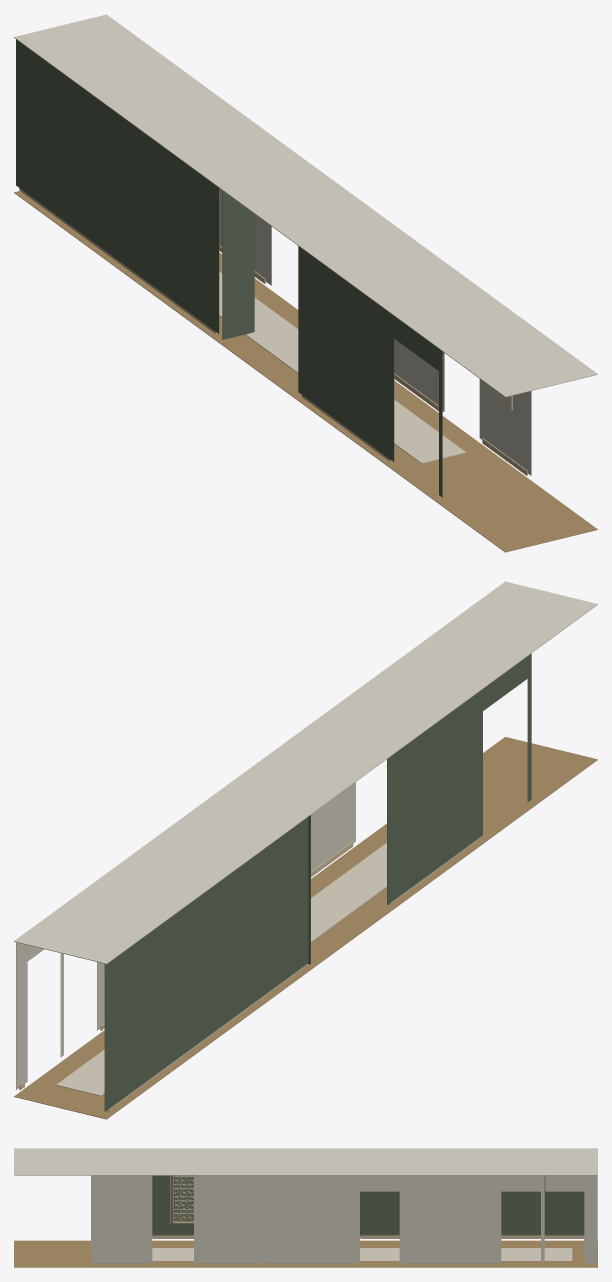
File: corridor-1.glb
3 renders of one model, top to bottom at view 1: azimuth 30°, elevation 25°; view 2: azimuth 150°, elevation 25°; view 3: azimuth 270°, elevation 25°, orthographic. The views are drawn at different scales.
Parts seen in each view (by area): view 1: DESIGN | Entrance coordinated ceiling, DESIGN | Entrance paired wall finish, DESIGN | Entrance floor finish, DESIGN | Entrance paired wall finish.003, DESIGN | Entrance quiet runner, DESIGN | Arch approach finish, DESIGN | Entrance paired wall finish.013, DESIGN | Entrance paired wall finish.012, DESIGN | Entrance paired wall finish.006, DESIGN | Entrance paired wall finish.002; view 2: DESIGN | Entrance coordinated ceiling, DESIGN | Entrance paired wall finish, DESIGN | Entrance floor finish, DESIGN | Entrance paired wall finish.003, DESIGN | Entrance quiet runner, DESIGN | Entrance paired wall finish.012, DESIGN | Entrance paired wall finish.005, DESIGN | Entrance paired wall finish.002, DESIGN | Entrance paired wall finish.001; view 3: DESIGN | Entrance coordinated ceiling, DESIGN | Entrance paired wall finish.006, DESIGN | Entrance paired wall finish.009, DESIGN | Entrance floor finish, DESIGN | Entrance paired wall finish.012, DESIGN | Entrance paired wall finish, DESIGN | Entrance paired wall finish.013, DESIGN | Entrance paired wall finish.003, DESIGN | Entrance quiet runner, DESIGN | Entrance paired wall finish.005, DESIGN | Kumiko | Garden wall and an ivory pause, DESIGN | Entrance paired wall finish.007 (+6 smaller).
Boxes of the visible parts, x1,y1,x2,y2 form: DESIGN | Entrance coordinated ceiling: (14, 14, 597, 397); DESIGN | Entrance paired wall finish: (16, 39, 219, 333); DESIGN | Entrance floor finish: (14, 191, 597, 552); DESIGN | Entrance paired wall finish.003: (298, 246, 394, 461); DESIGN | Entrance quiet runner: (219, 272, 466, 463); DESIGN | Arch approach finish: (222, 190, 254, 339); DESIGN | Entrance paired wall finish.013: (479, 379, 531, 475); DESIGN | Entrance paired wall finish.012: (394, 339, 444, 411); DESIGN | Entrance paired wall finish.006: (219, 188, 268, 283); DESIGN | Entrance paired wall finish.002: (394, 316, 438, 370); DESIGN | Entrance coordinated ceiling: (14, 581, 597, 964); DESIGN | Entrance paired wall finish: (104, 817, 308, 1111); DESIGN | Entrance floor finish: (14, 737, 597, 1119); DESIGN | Entrance paired wall finish.003: (387, 689, 482, 904); DESIGN | Entrance quiet runner: (56, 843, 386, 1096); DESIGN | Entrance paired wall finish.012: (311, 782, 355, 871); DESIGN | Entrance paired wall finish.005: (16, 942, 27, 1089); DESIGN | Entrance paired wall finish.002: (483, 656, 527, 710); DESIGN | Entrance paired wall finish.001: (527, 653, 531, 801); DESIGN | Entrance coordinated ceiling: (14, 1148, 597, 1175); DESIGN | Entrance paired wall finish.006: (402, 1175, 501, 1262); DESIGN | Entrance paired wall finish.009: (262, 1175, 359, 1262); DESIGN | Entrance floor finish: (14, 1240, 597, 1267); DESIGN | Entrance paired wall finish.012: (194, 1175, 262, 1262); DESIGN | Entrance paired wall finish: (360, 1176, 584, 1236); DESIGN | Entrance paired wall finish.013: (91, 1175, 152, 1262); DESIGN | Entrance paired wall finish.003: (152, 1175, 193, 1236); DESIGN | Entrance quiet runner: (152, 1248, 572, 1261); DESIGN | Entrance paired wall finish.005: (584, 1175, 597, 1262); DESIGN | Kumiko | Garden wall and an ivory pause: (172, 1175, 193, 1223); DESIGN | Entrance paired wall finish.007: (501, 1175, 540, 1191).
Bounding box in the file's own units: 1.7 × 2.73 × 15.61.
